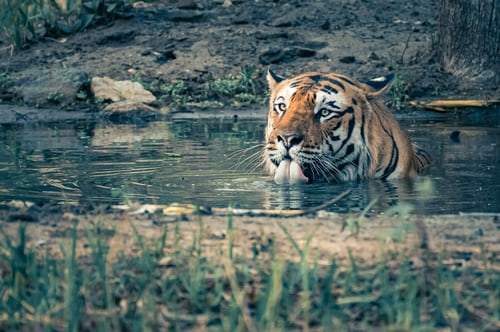tiger: (259, 62, 399, 196)
